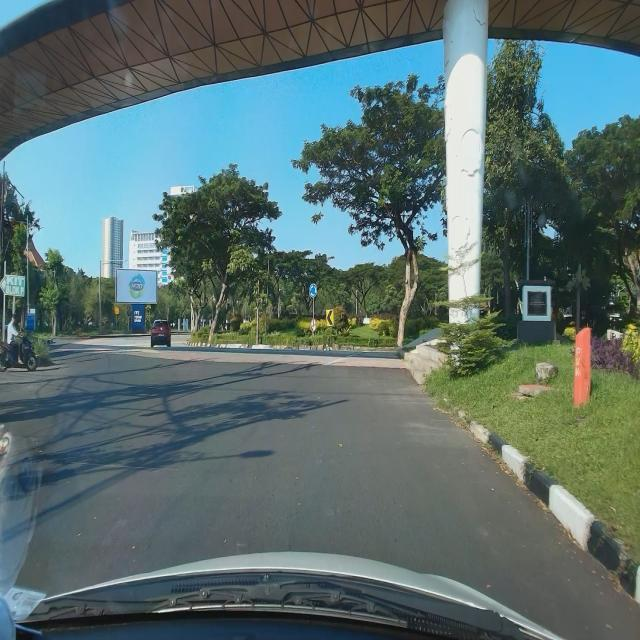car: (150, 318, 172, 349)
license-plate: (158, 333, 164, 337)
